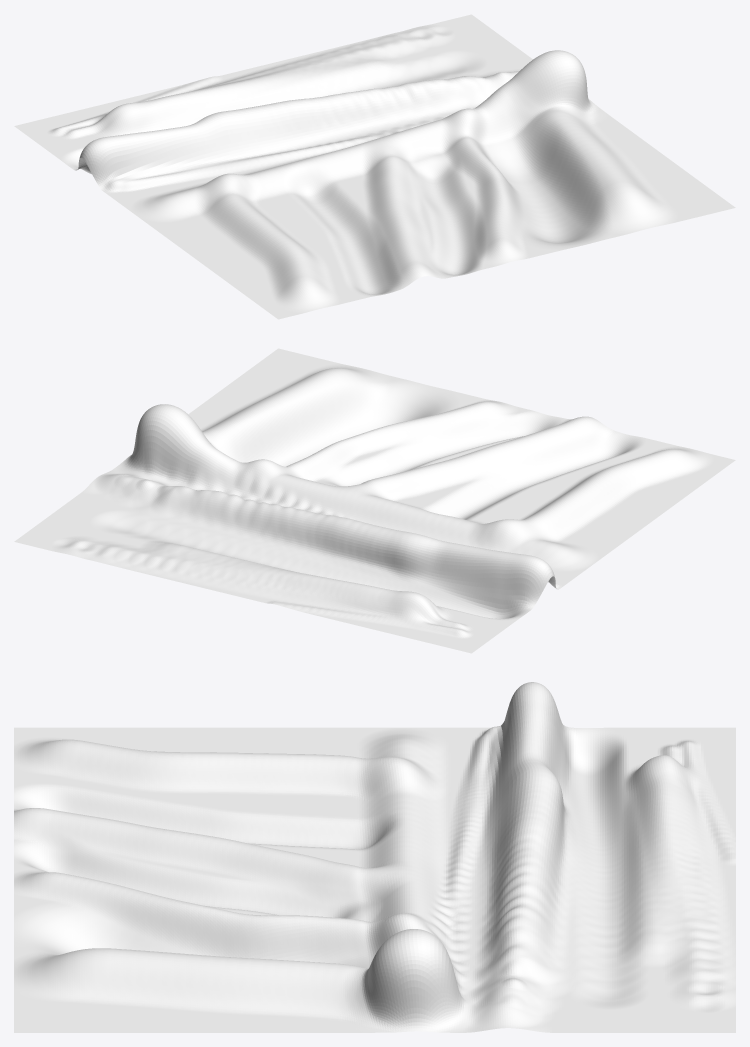
File: TentativeStage.obj
3 renders of one model, top to bottom at view 1: azimuth 30°, elevation 25°; view 2: azimuth 150°, elevation 25°; view 3: azimuth 270°, elevation 25°, orthographic. The views are drawn at different scales.
Visible parts, largest first — view 1: 平面; view 2: 平面; view 3: 平面.
Boxes of the visible parts, <box> form: 平面: <box>14,14,735,319</box>; 平面: <box>14,348,735,653</box>; 平面: <box>14,682,735,1032</box>.
Bounding box in the file's own units: 30.39 × 4.92 × 30.
1 material, 1 textured.
